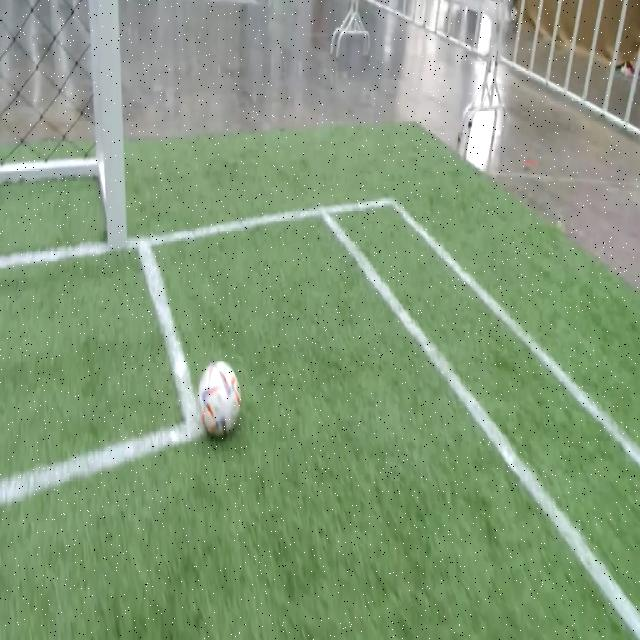ball: (199, 360, 240, 440)
goalpost: (99, 175, 132, 257)
